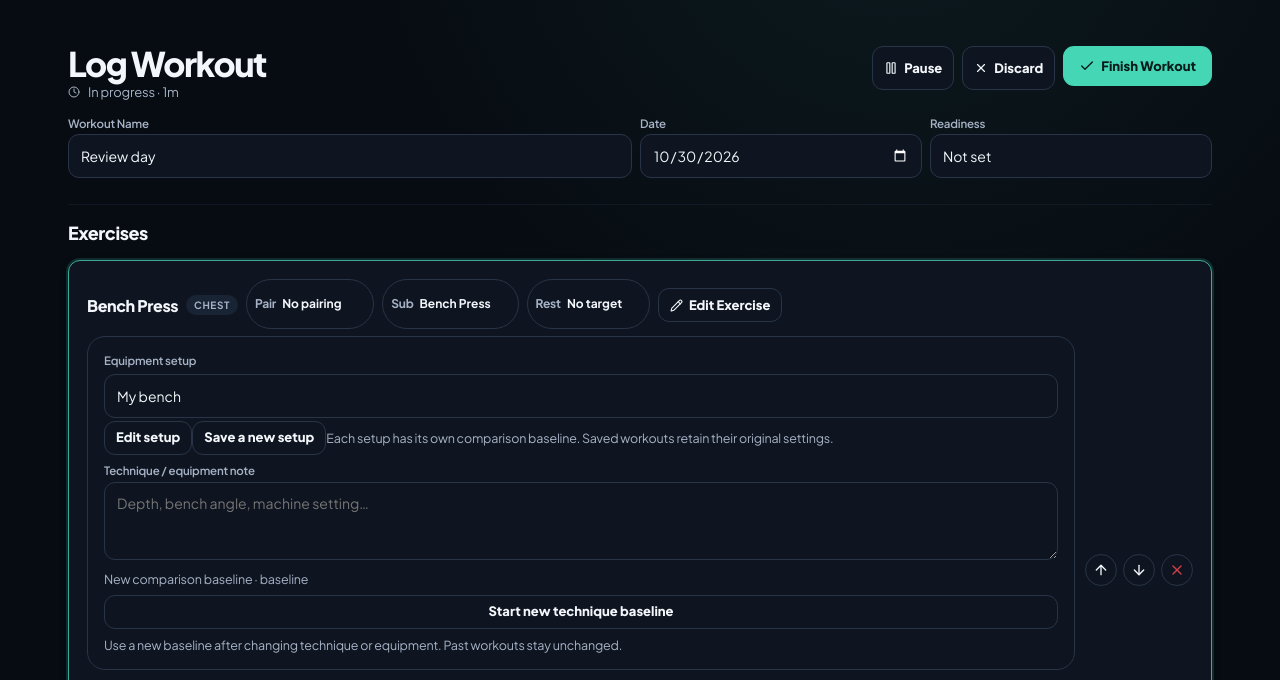
Test: workout finish review › retains the review on error and retries only after another explicit confirmation
Click the button "Finish Workout".
click(1138, 66)  # box [1063,46,1212,86]
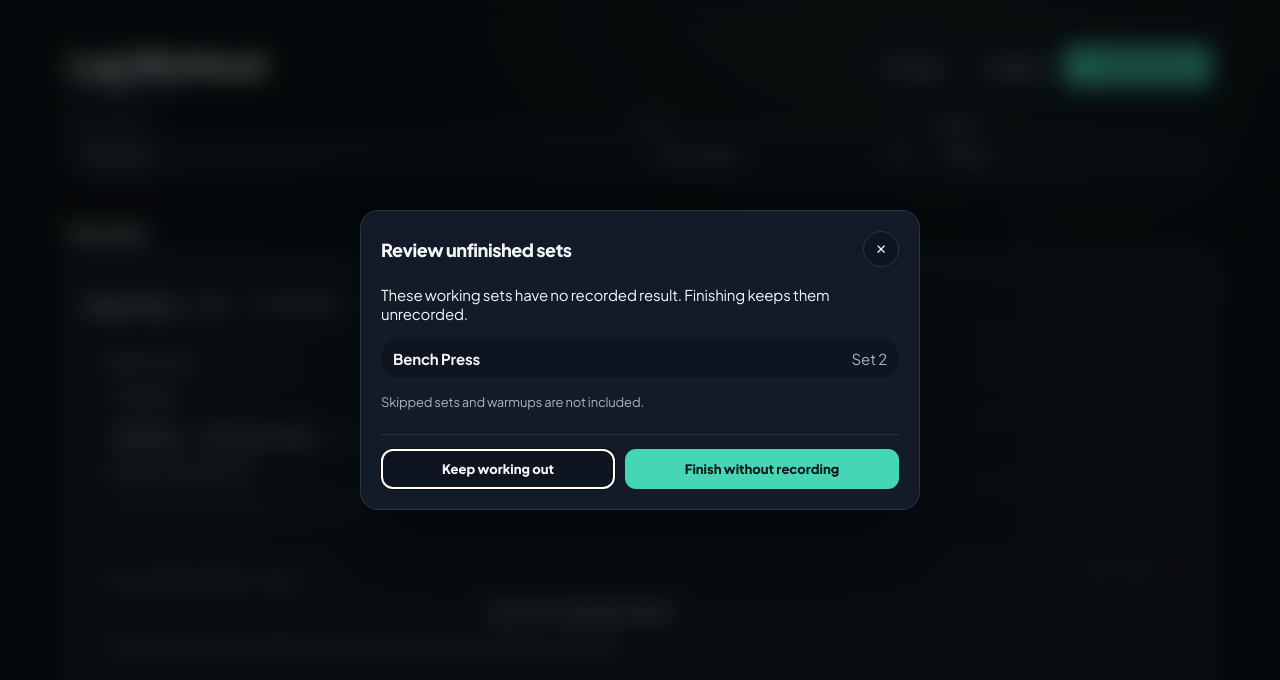
Click the button "Finish without recording".
click(762, 469)  # box [625,449,899,489]
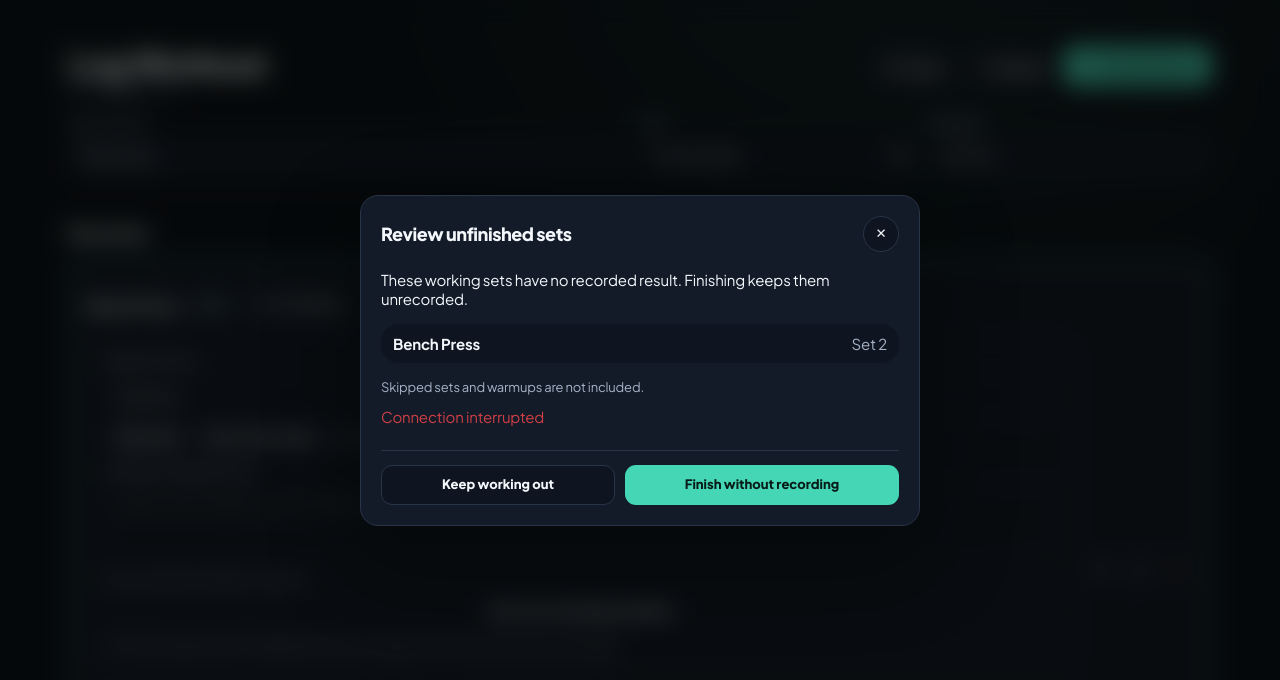
Expected: the dialog "Review unfinished sets" is shown, [360,194,920,526]
Expected: the message reads "Connection interrupted", [381,406,544,426]
Click the button "Finish without recording".
click(762, 484)  # box [625,464,899,504]
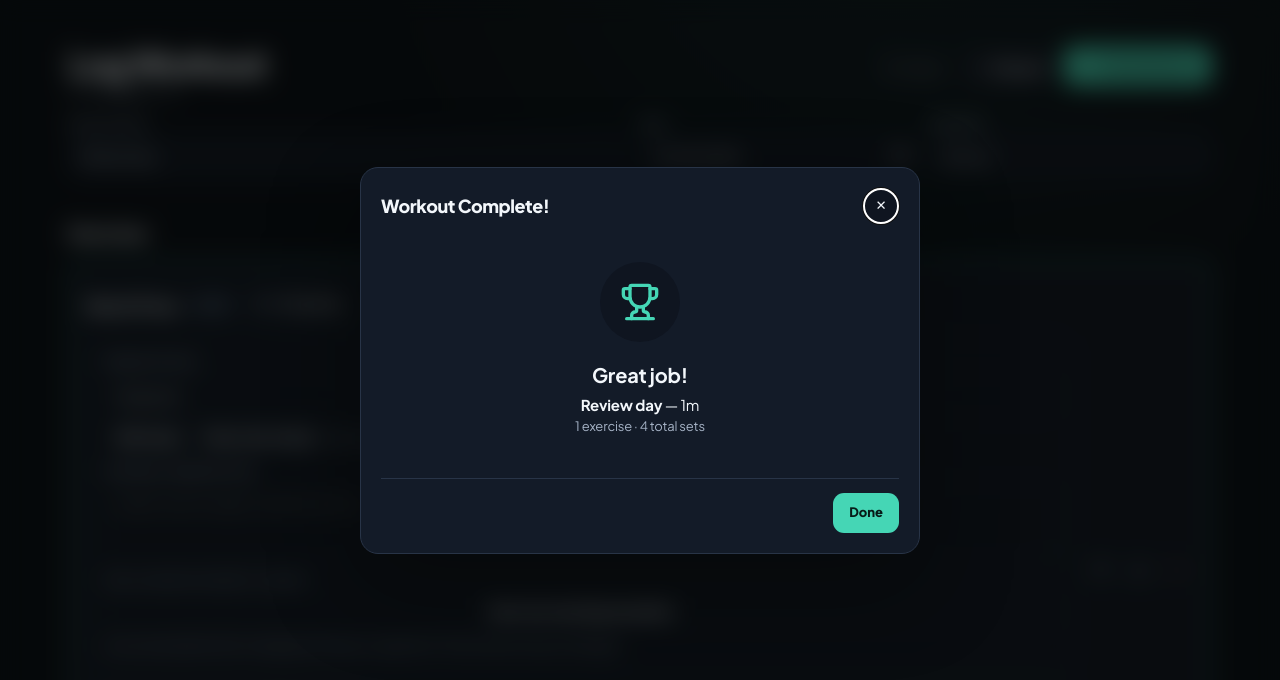
Expected: the dialog "Workout Complete!" is shown, [360,166,920,554]
